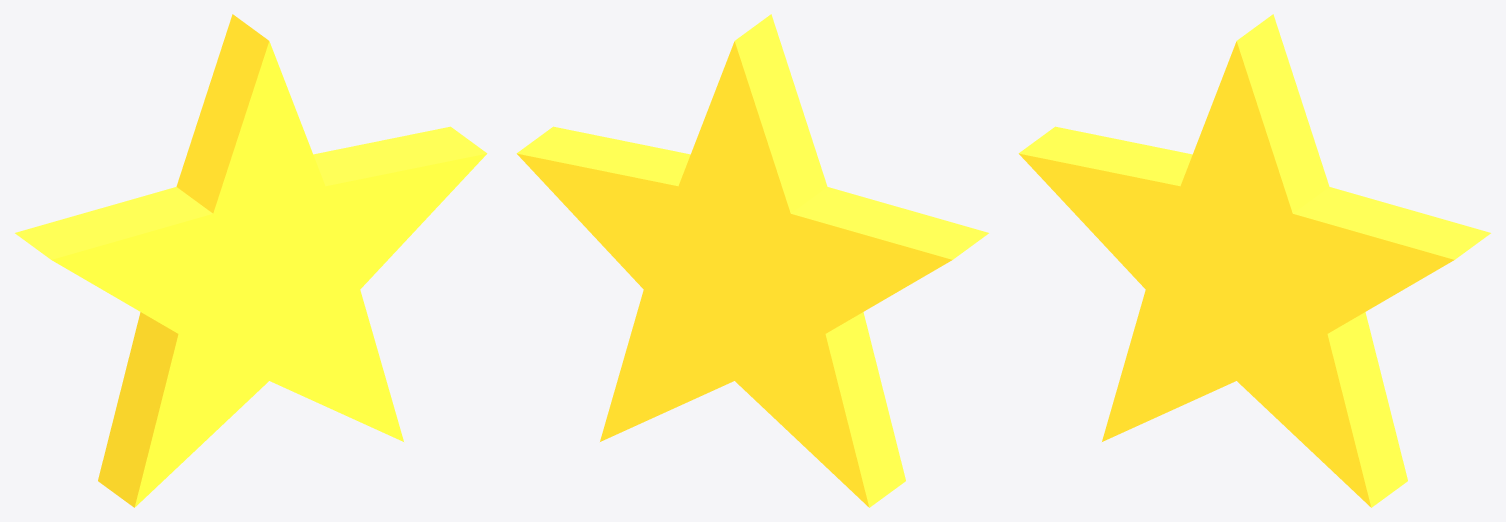
File: estrela.glb
The picture shows the model from 3 angles, left to right: view 1: azimuth 30°, elevation 25°; view 2: azimuth 150°, elevation 25°; view 3: azimuth 330°, elevation 25°; orthographic projection.
Visible parts, largest first — view 1: estrela; view 2: estrela; view 3: estrela.
Boxes of the visible parts, x1,y1,x2,y2 form: estrela: (15,14,487,507); estrela: (516,14,988,507); estrela: (1018,14,1490,507).
Bounding box in the file's own units: 1.37 × 1.3 × 0.2.
